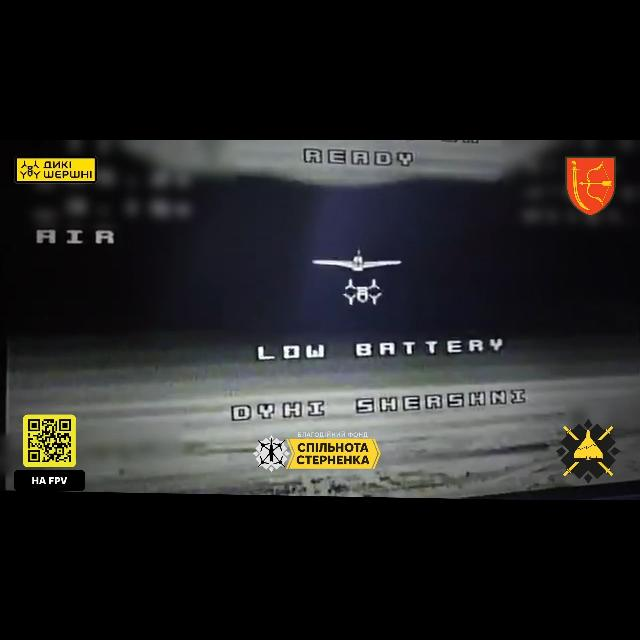Gerbera: (313, 250, 402, 272)
